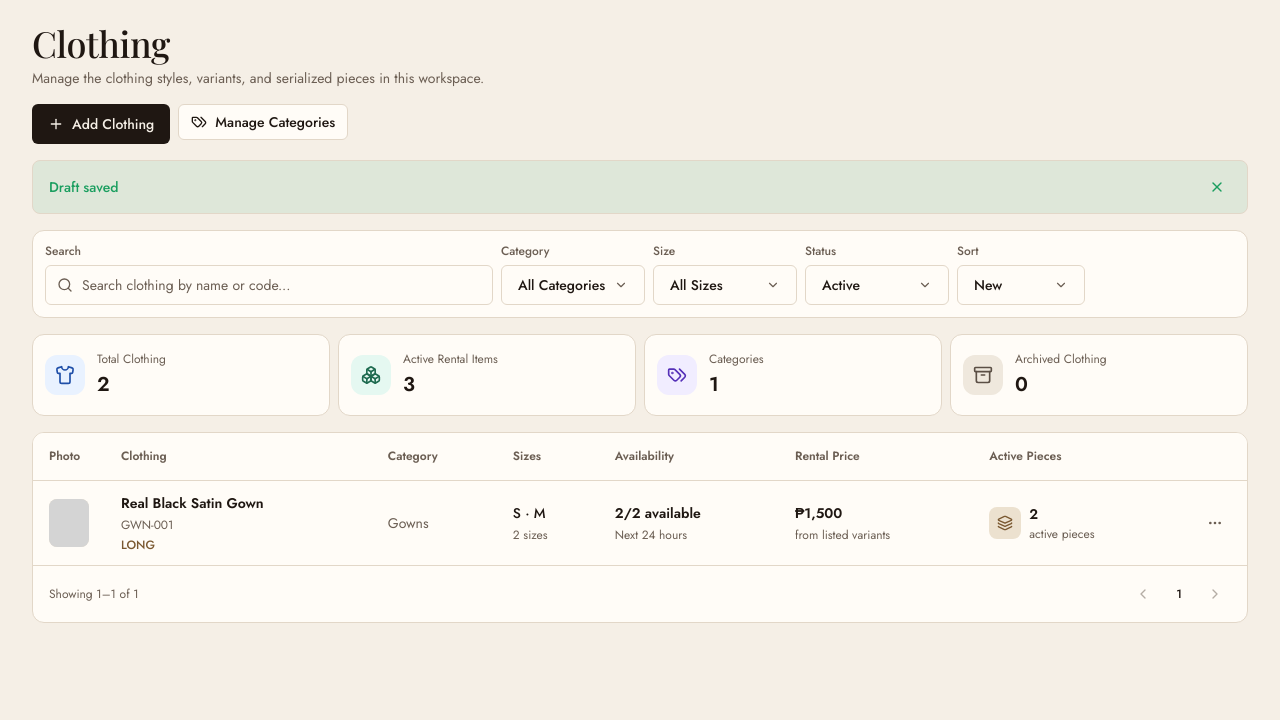
Test: ClothingPage › shows a one-time draft-saved notice that can be dismissed
Check: the message reads "Draft saved", box x1=49 y1=177 x2=118 y2=197
Click the button named "Dismiss inventory message".
click(1217, 187)  # box x1=1203 y1=173 x2=1231 y2=201
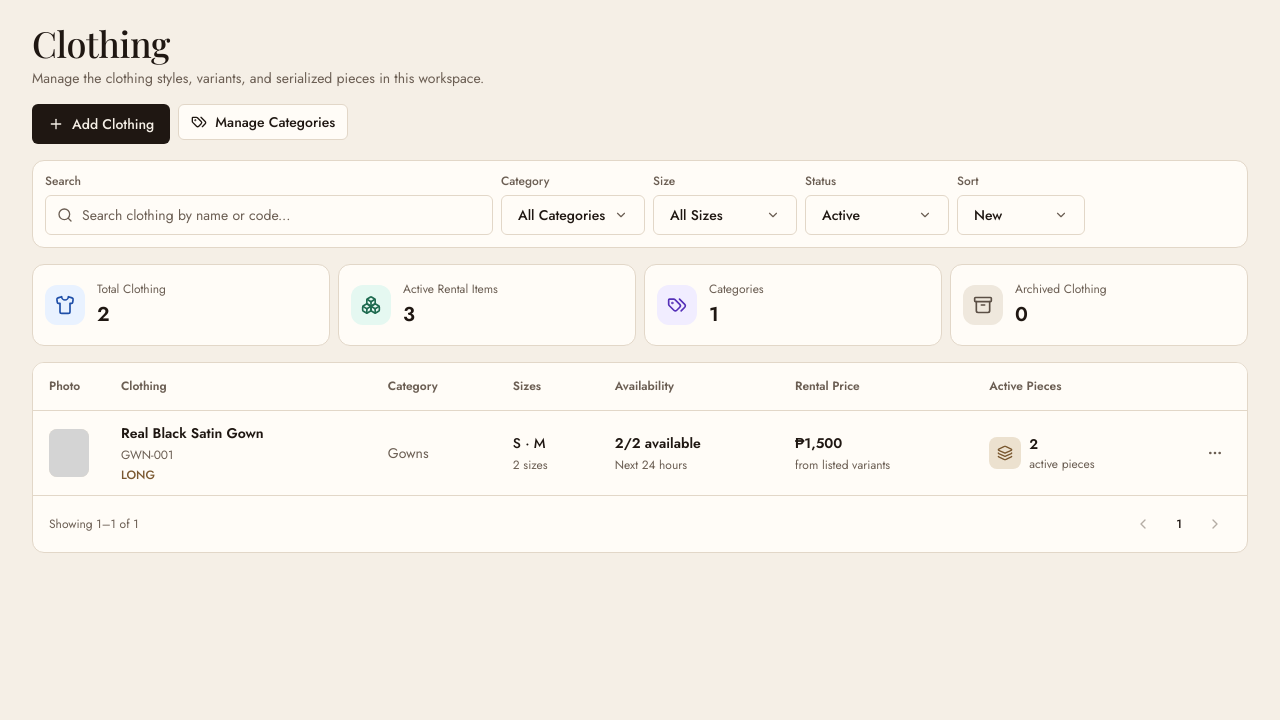
Check: the text "Draft saved" is gone
